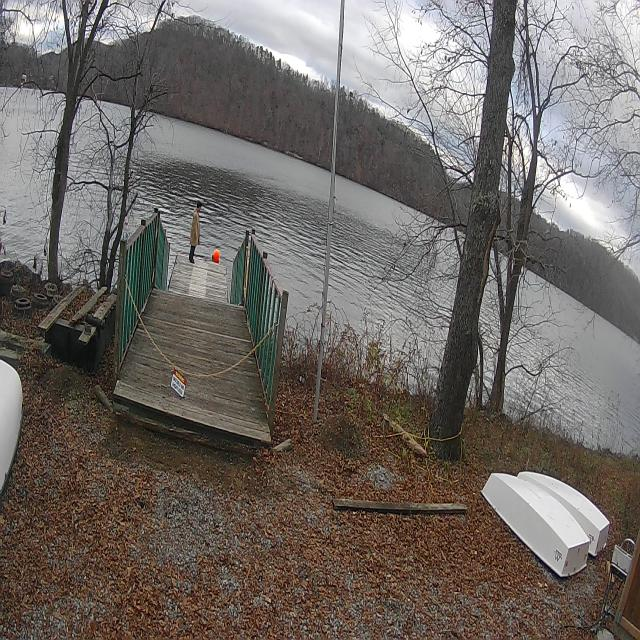Buoy: (212, 248, 221, 263)
